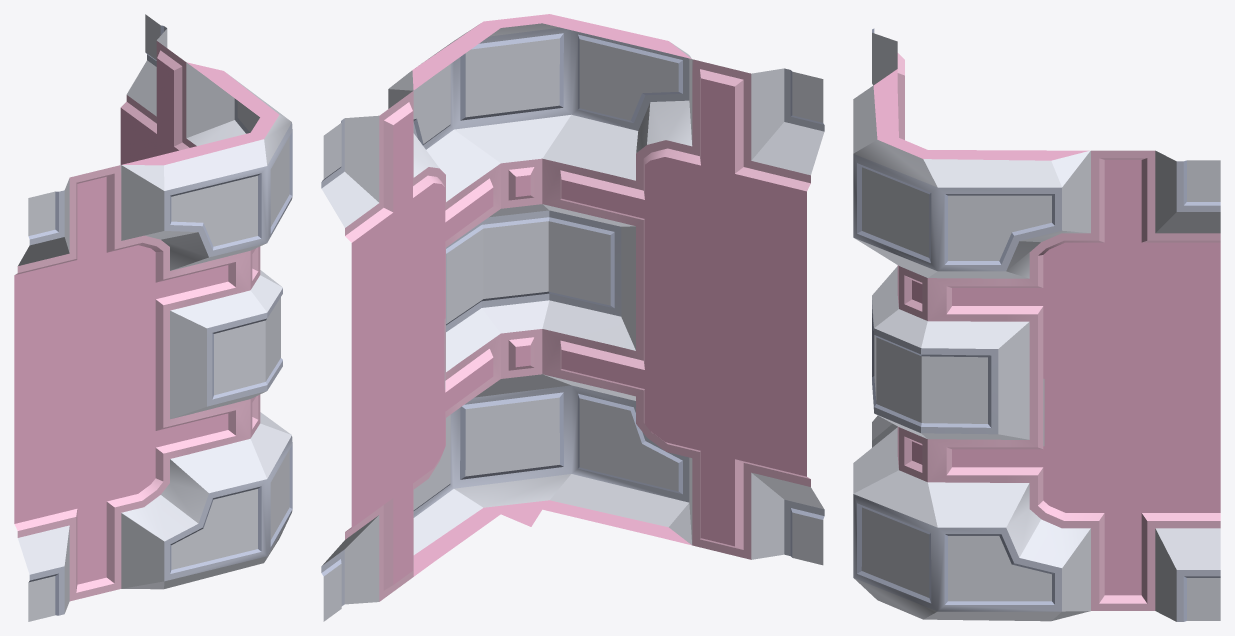
The model's file is WallPanel_CornerOut.fbx.
The picture shows the model from 3 angles, left to right: view 1: azimuth 30°, elevation 25°; view 2: azimuth 150°, elevation 25°; view 3: azimuth 270°, elevation 25°; orthographic projection. The views are drawn at different scales.
Parts seen in each view (by area): view 1: CornerPanelOut1; view 2: CornerPanelOut1; view 3: CornerPanelOut1.
Part boxes in pixels (box(x1,y1,x2,y2)): CornerPanelOut1: box(14, 14, 292, 621); CornerPanelOut1: box(321, 14, 824, 621); CornerPanelOut1: box(853, 28, 1220, 621).
Size of the model in its own units: 260 by 360 by 260.
1 material, 1 textured.
